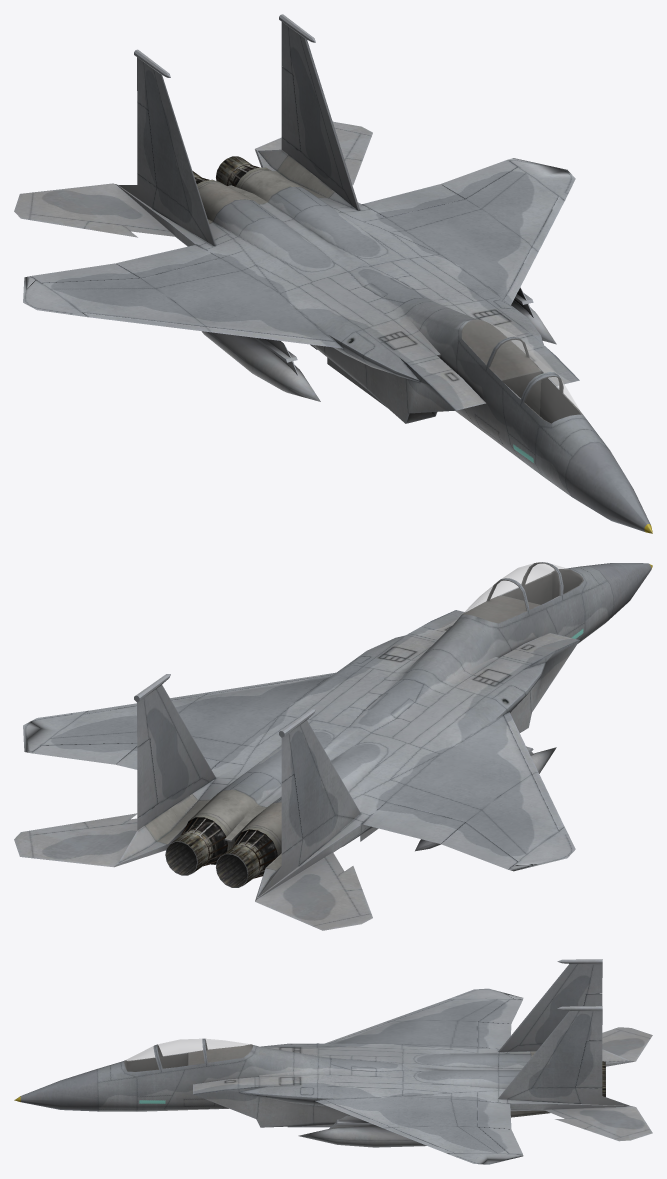
The picture shows the model from 3 angles, top to bottom: view 1: azimuth 30°, elevation 25°; view 2: azimuth 150°, elevation 25°; view 3: azimuth 270°, elevation 25°; orthographic projection. The views are drawn at different scales.
Visible parts, largest first — view 1: F_15_C, GLass, TAnks; view 2: F_15_C, GLass; view 3: F_15_C, GLass, TAnks.
Part boxes in pixels (left/top/right/bottom): F_15_C: left=14, top=14, right=652, bottom=533; GLass: left=462, top=320, right=582, bottom=422; TAnks: left=202, top=300, right=556, bottom=401; F_15_C: left=14, top=562, right=652, bottom=930; GLass: left=463, top=562, right=583, bottom=622; F_15_C: left=14, top=959, right=652, bottom=1164; GLass: left=124, top=1038, right=252, bottom=1071; TAnks: left=298, top=1125, right=426, bottom=1147.
Bounding box in the file's own units: 12.59 × 4.68 × 19.28.
2 materials, 1 textured.
